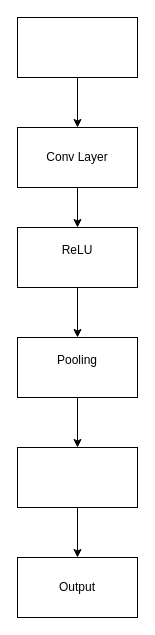
The diagram is 155 pixels wide and 635 high, and some of its shapes have lost their labels. The centre of each missing label's shape, as x and y in pixels:
"Fully Connected" belongs at (x=77, y=477).
"input image" belongs at (x=77, y=47).
